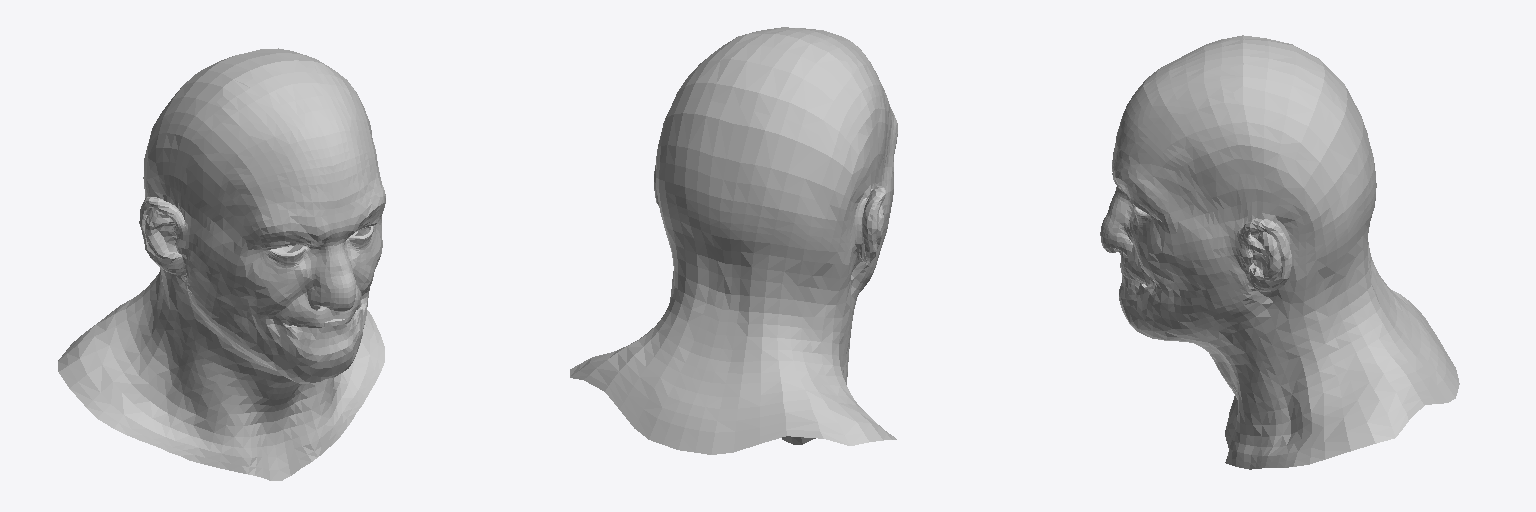
Rendered from Victor_suckLip.obj.
The picture shows the model from 3 angles: view 1: azimuth 30°, elevation 25°; view 2: azimuth 150°, elevation 25°; view 3: azimuth 270°, elevation 25°; orthographic projection.
Parts seen in each view (by area): view 1: Victor_headGEO Victor_Mesh def:geo FTI_Victor; view 2: Victor_headGEO Victor_Mesh def:geo FTI_Victor; view 3: Victor_headGEO Victor_Mesh def:geo FTI_Victor.
Boxes of the visible parts, <box> form: Victor_headGEO Victor_Mesh def:geo FTI_Victor: <box>58,48,385,480</box>; Victor_headGEO Victor_Mesh def:geo FTI_Victor: <box>570,27,897,454</box>; Victor_headGEO Victor_Mesh def:geo FTI_Victor: <box>1100,35,1459,469</box>.
Bounding box in the file's own units: 3.54 × 4.64 × 3.65.